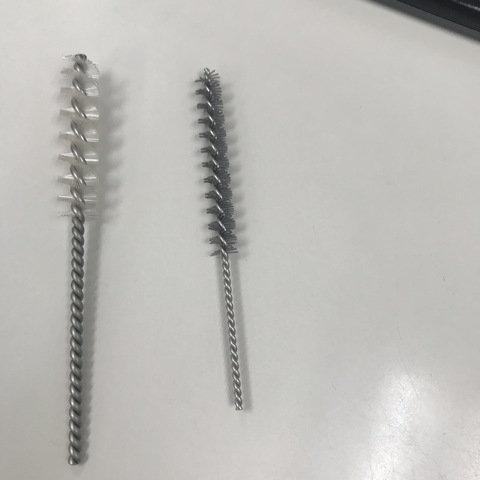Twist Brush-A: (190, 64, 250, 413)
Twist Brush-B: (54, 50, 101, 469)
